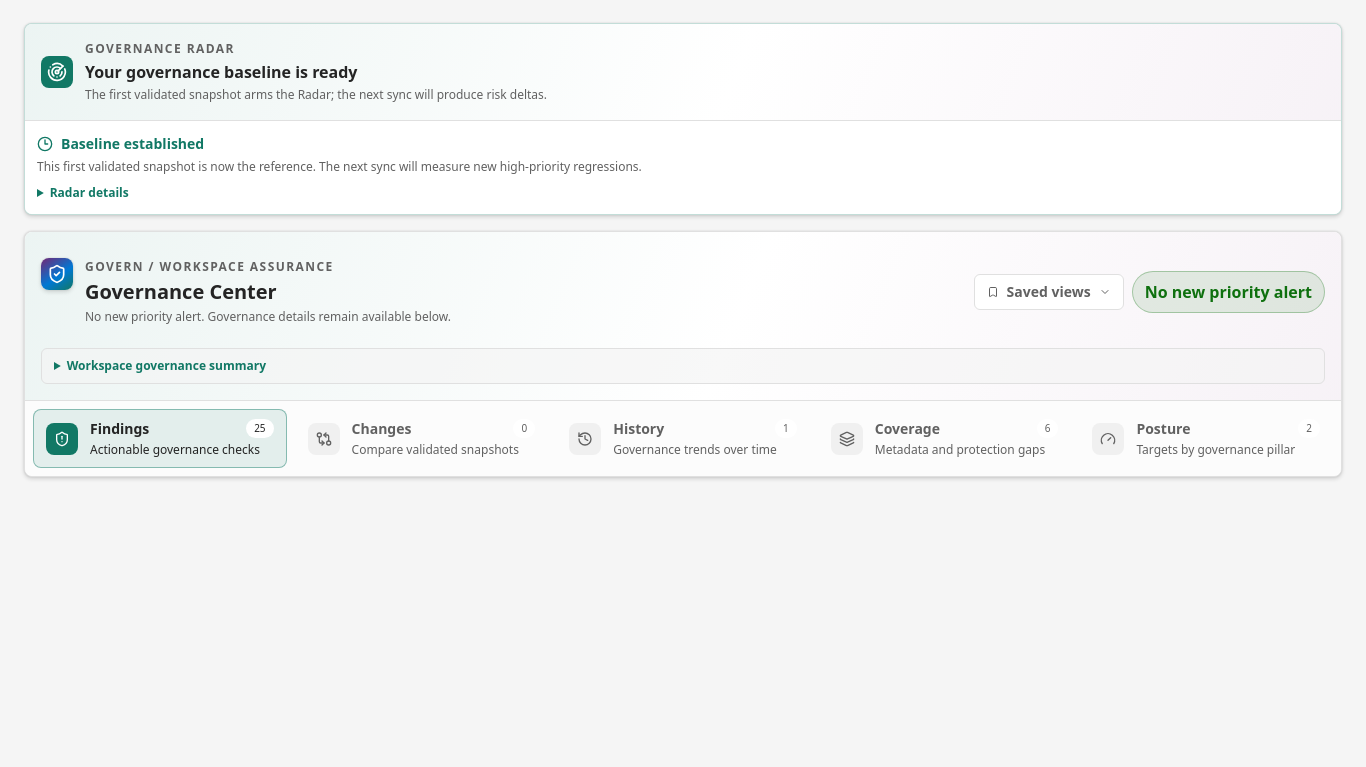
Test: GovernanceCenterView › shows the two-snapshot requirement in Change Center preview
What coordinates should you click on to do the following:
click the tab "Changes 0 Compare validated snapshots"
I would click on:
 (421, 438)
Its box is [295,409,548,468].
(page scrolled)
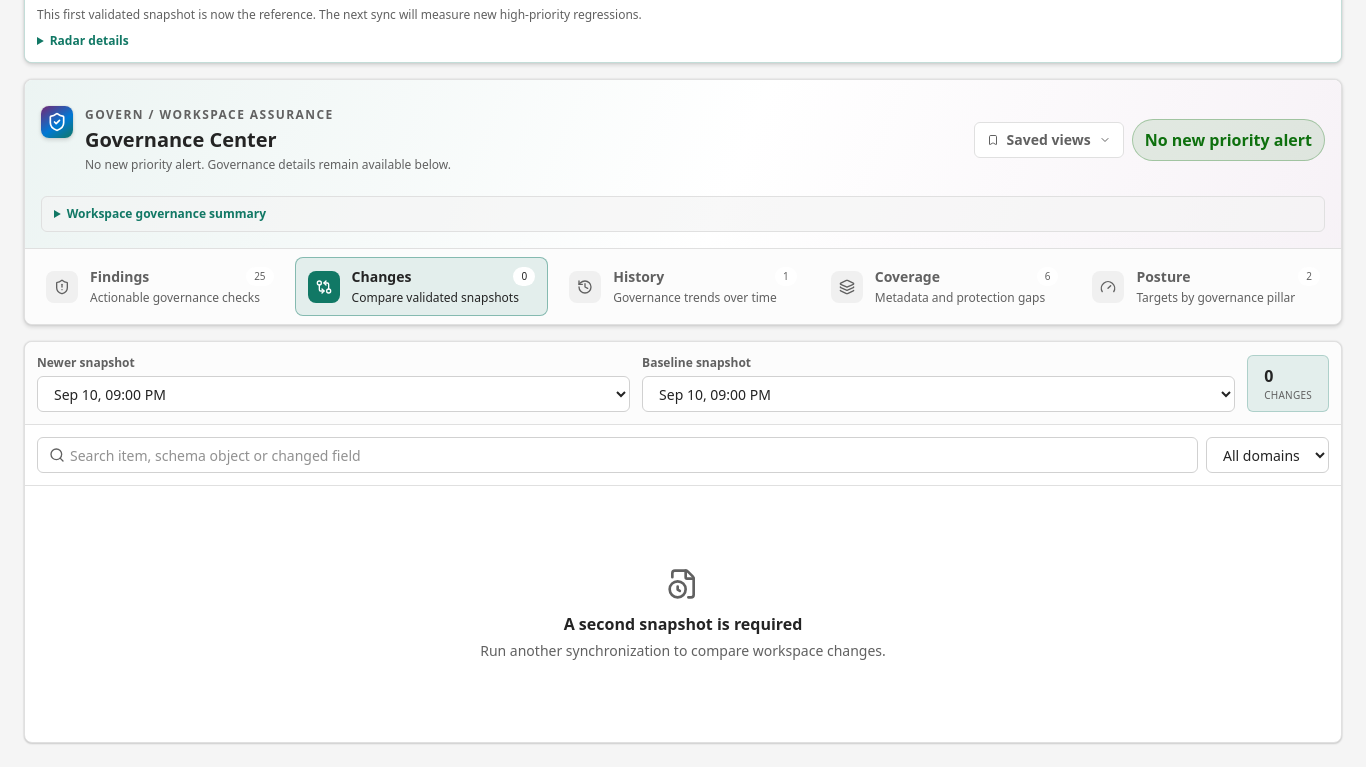
Result: the heading "A second snapshot is required" is shown at [564,612,802,636]
